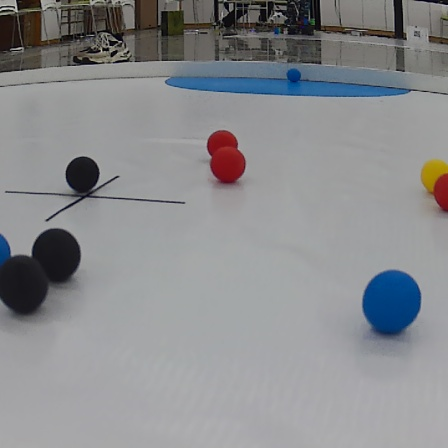black: (2, 251, 54, 308), (35, 230, 81, 275), (62, 153, 101, 193)
blue: (360, 267, 426, 336), (286, 66, 305, 86)
blue_base: (172, 70, 412, 108)
red: (212, 146, 246, 183), (204, 126, 241, 157), (434, 175, 448, 210)
yellow: (421, 161, 448, 189)
